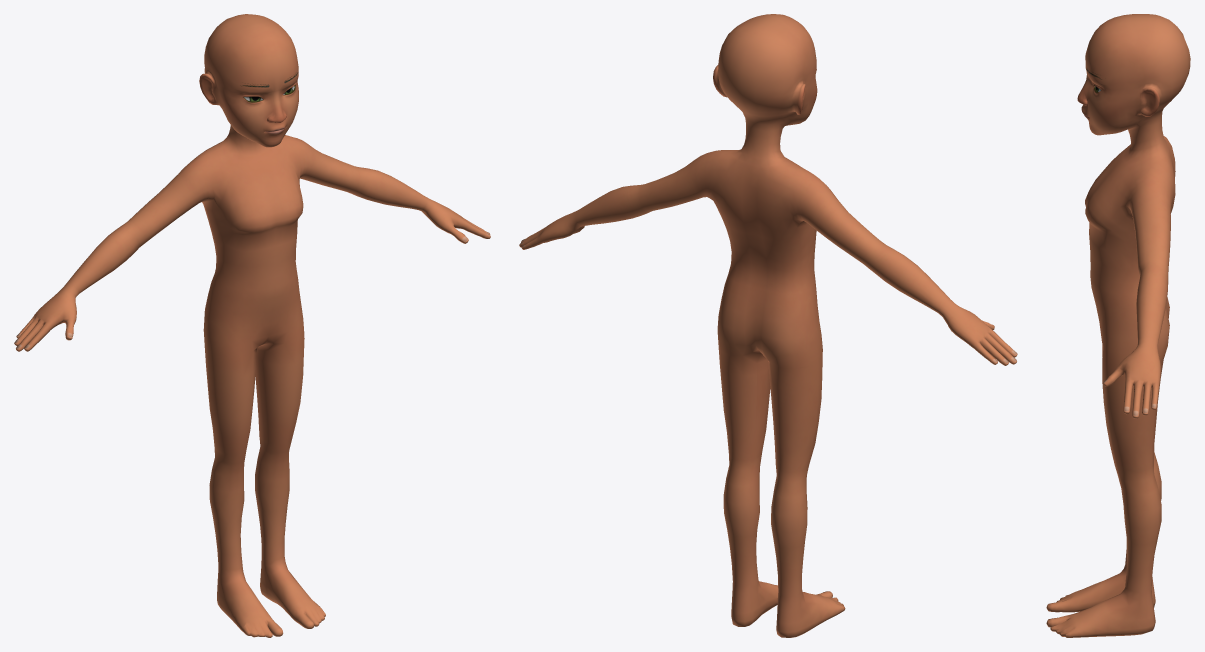
The model's file is frame_0014.glb.
3 views of the same model, side by side, from view 1: azimuth 30°, elevation 25°; view 2: azimuth 150°, elevation 25°; view 3: azimuth 270°, elevation 25° (orthographic). The views are drawn at different scales.
Visible parts, largest first — view 1: frame_0014_head_geo; view 2: frame_0014_head_geo; view 3: frame_0014_head_geo.
Boxes of the visible parts, bbox=[...] form: frame_0014_head_geo: bbox=[14, 14, 490, 637]; frame_0014_head_geo: bbox=[519, 14, 1017, 637]; frame_0014_head_geo: bbox=[1046, 14, 1190, 637].
Size of the model in its own units: 1.28 by 1.5 by 0.3253.
3 materials, 3 textured.
